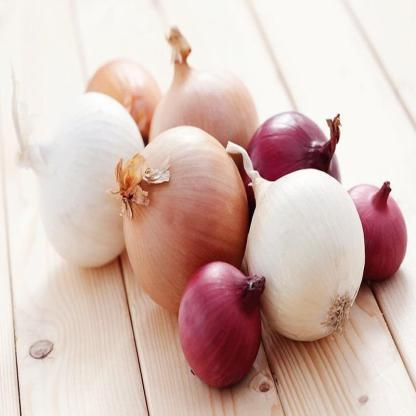onion: (235, 131, 383, 346), (110, 91, 260, 294), (13, 70, 136, 286), (172, 246, 272, 402)
